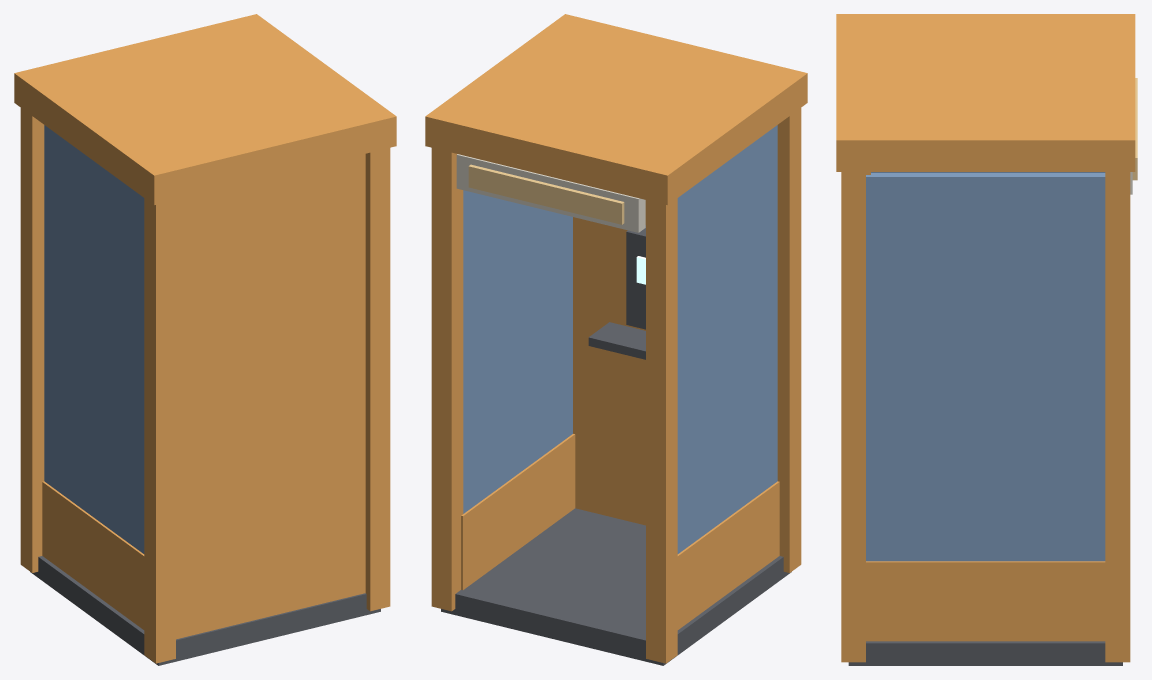
Rendered from PhoneBooth.fbx.
The picture shows the model from 3 angles, left to right: view 1: azimuth 30°, elevation 25°; view 2: azimuth 150°, elevation 25°; view 3: azimuth 270°, elevation 25°; orthographic projection. The views are drawn at different scales.
Parts seen in each view (by area): view 1: PhoneBooth; view 2: PhoneBooth; view 3: PhoneBooth.
Part boxes in pixels (x1,y1,x2,y2): PhoneBooth: (14, 14, 396, 665); PhoneBooth: (425, 14, 807, 665); PhoneBooth: (836, 14, 1137, 665).
Size of the model in its own units: 1.2 by 2.35 by 1.21.
